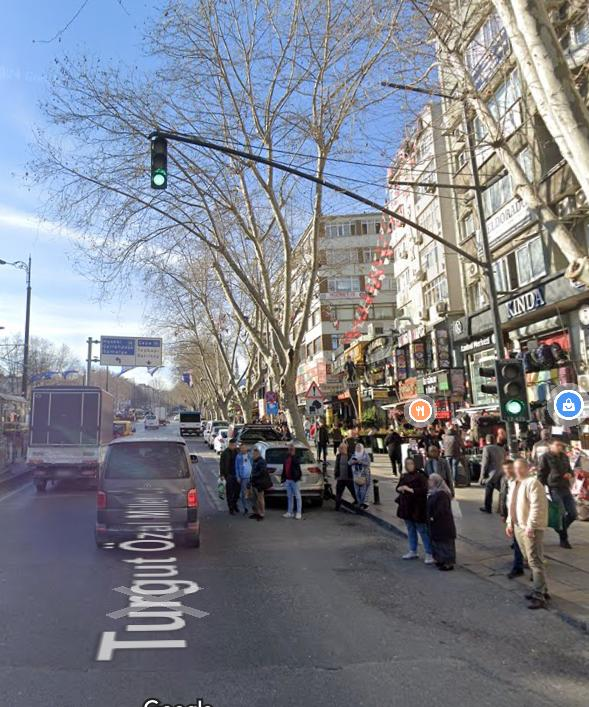greenlight: (495, 357, 528, 418), (151, 135, 167, 188)
